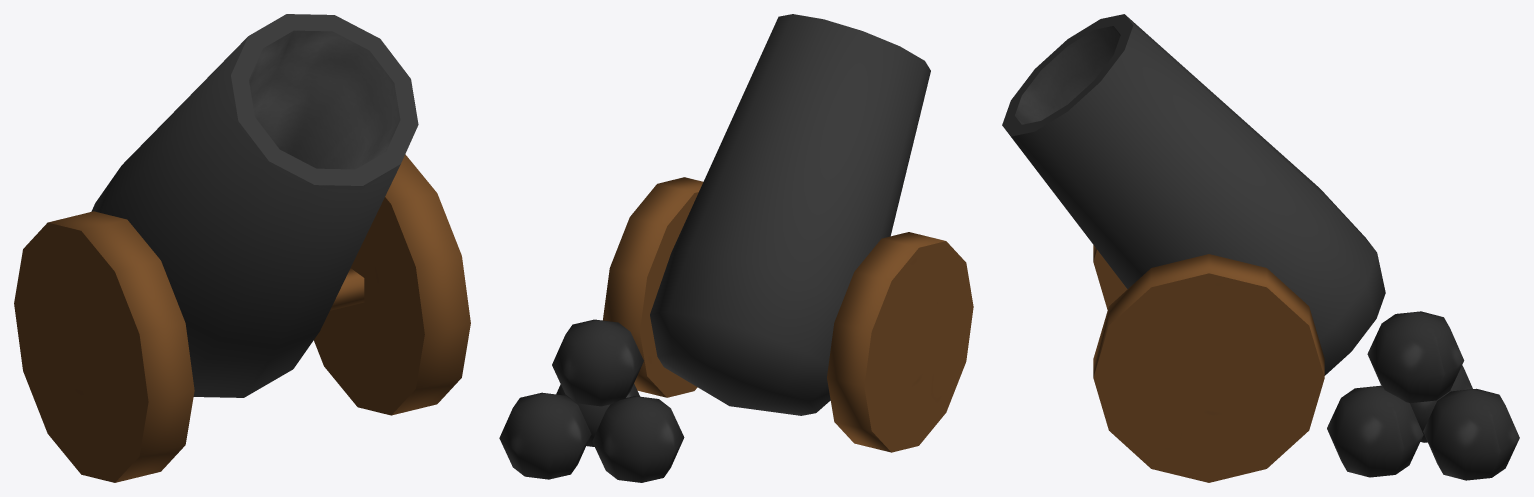
File: cannon.gltf
3 renders of one model, left to right at view 1: azimuth 30°, elevation 25°; view 2: azimuth 150°, elevation 25°; view 3: azimuth 270°, elevation 25°, orthographic. The views are drawn at different scales.
Visible parts, largest first — view 1: Cannon; view 2: Cannon; view 3: Cannon.
Part boxes in pixels (<box>): Cannon: <box>14,14,470,482</box>; Cannon: <box>499,14,973,482</box>; Cannon: <box>1002,14,1519,482</box>.
Size of what is drawn, in the model's own units: 1.43 by 1.75 by 2.09.
Materials: 1 (1 with a texture image).
